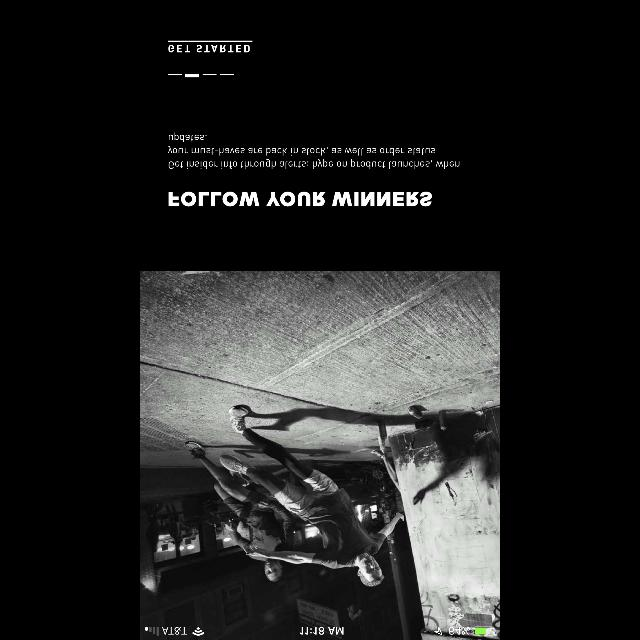image: (140, 272, 500, 640)
pageindicator: (168, 74, 234, 78)
text: (168, 132, 460, 170), (168, 192, 432, 206), (168, 41, 252, 53)
uppertaskbar: (140, 626, 500, 640)
